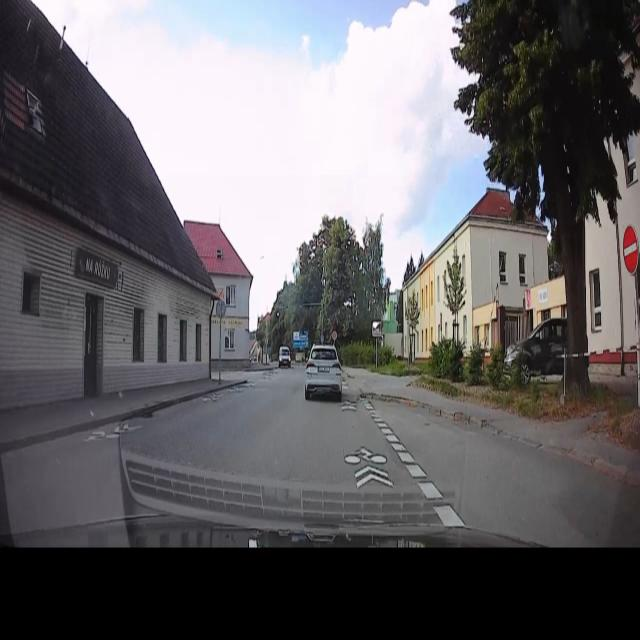Pedestrian crosswalk: (319, 334, 325, 343)
